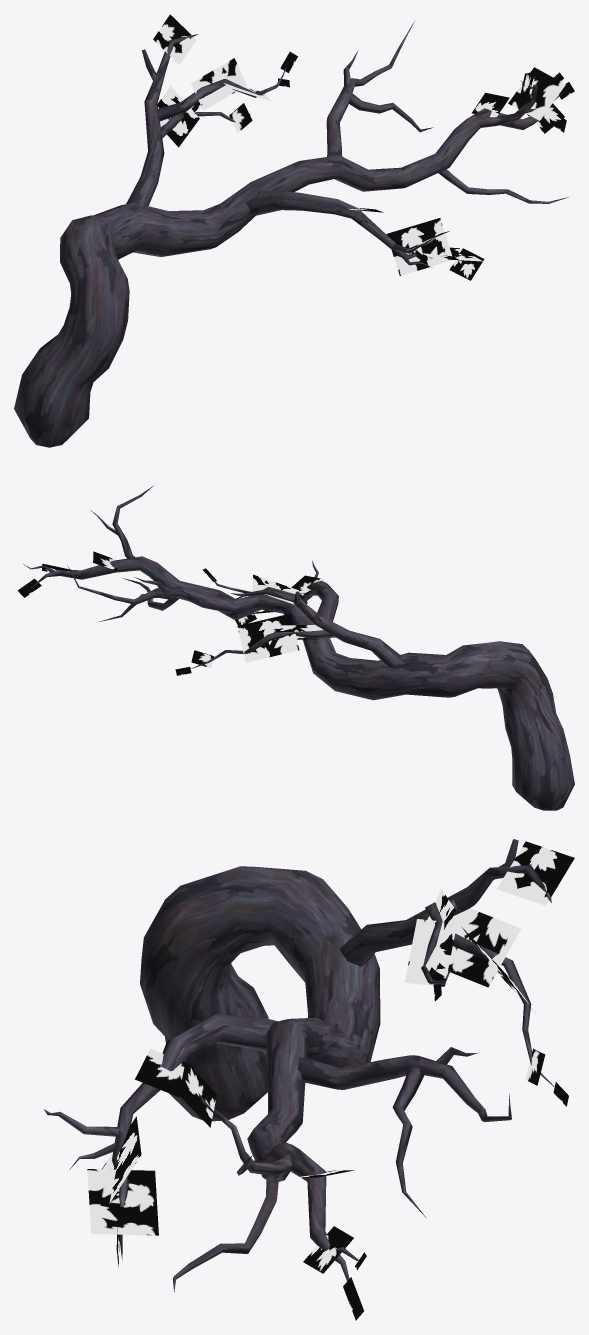
File: P_TreeWindsweptB04.obj
3 views of the same model, one above another, from view 1: azimuth 30°, elevation 25°; view 2: azimuth 150°, elevation 25°; view 3: azimuth 270°, elevation 25° (orthographic). The views are drawn at different scales.
Bounding box in the file's own units: 17.95 × 8.1 × 9.52.
